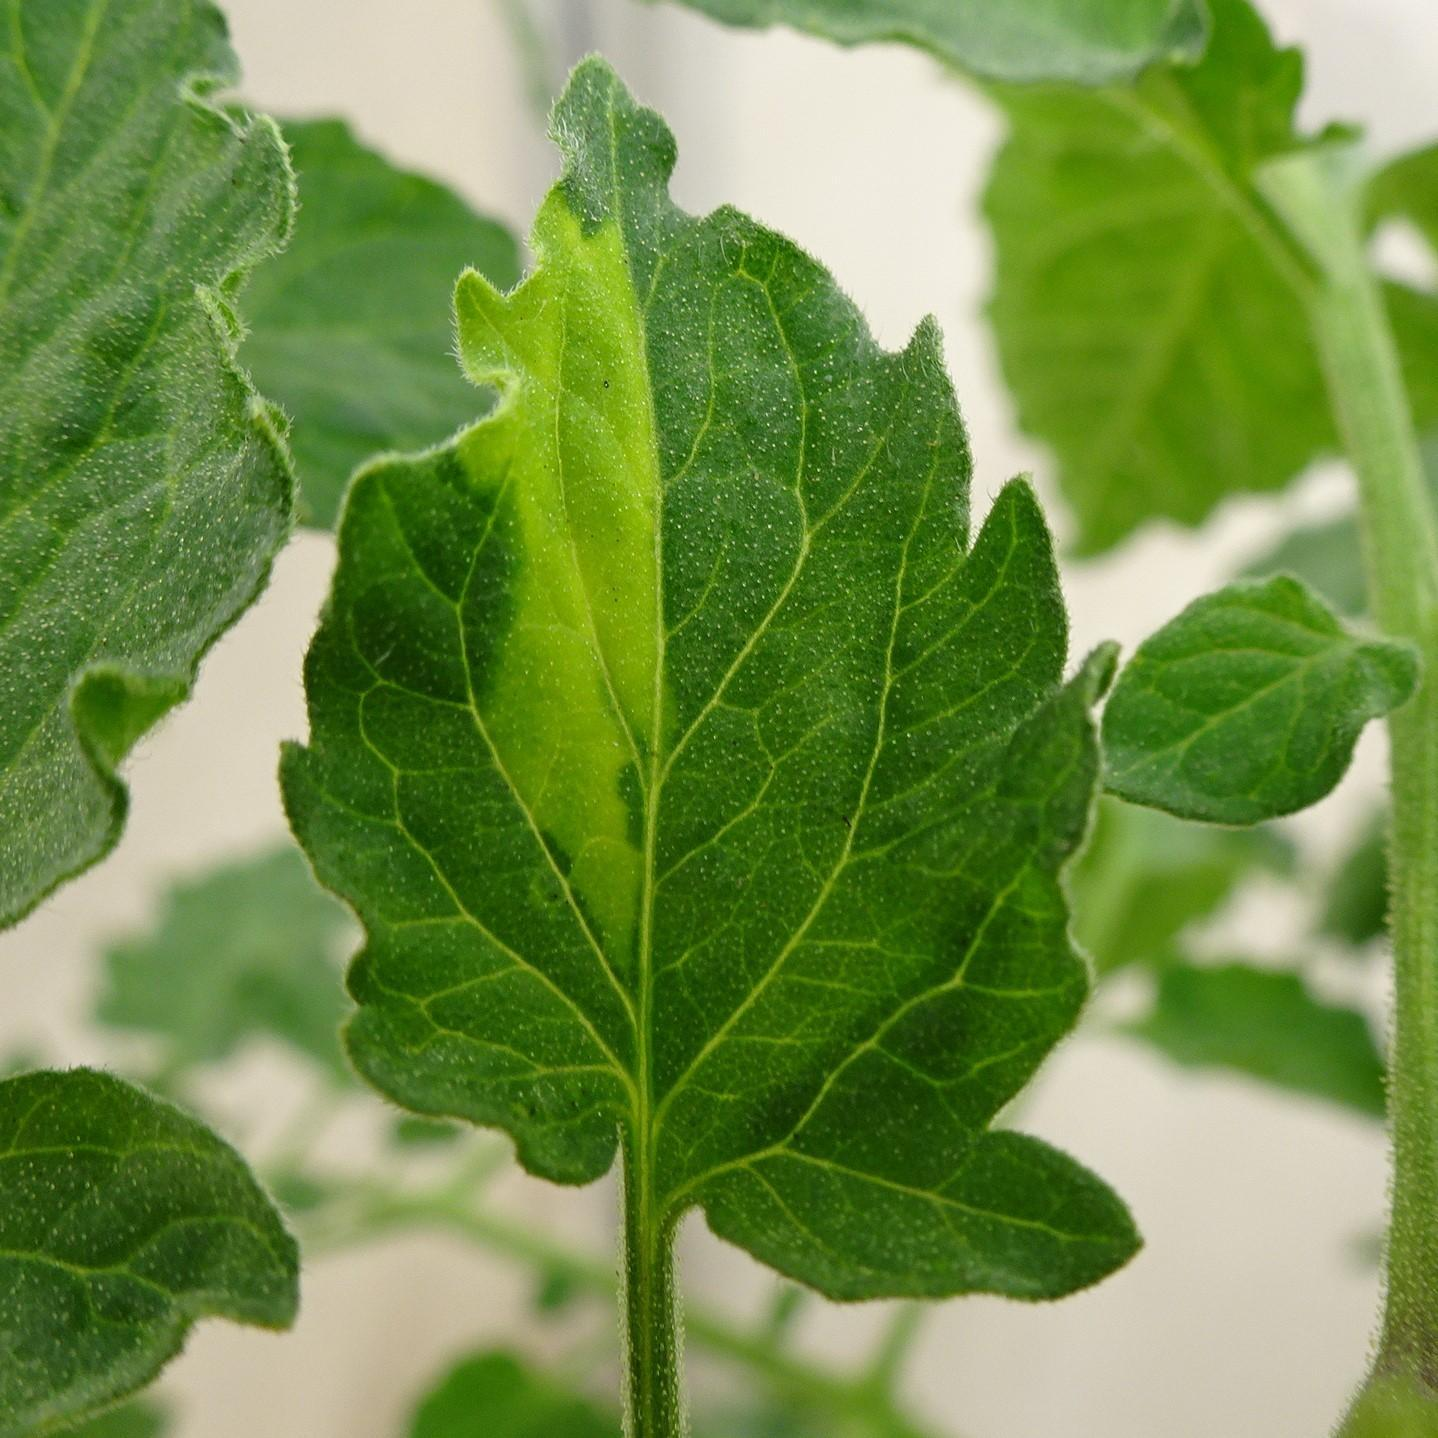Hoja rugoso: (283, 76, 1135, 1297), (1104, 575, 1418, 826)
Pedunculo rugoso: (620, 1143, 685, 1438)
